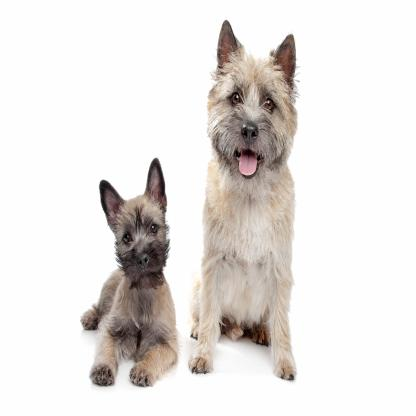Cairn Terrier: (186, 17, 314, 385), (70, 160, 192, 402)
